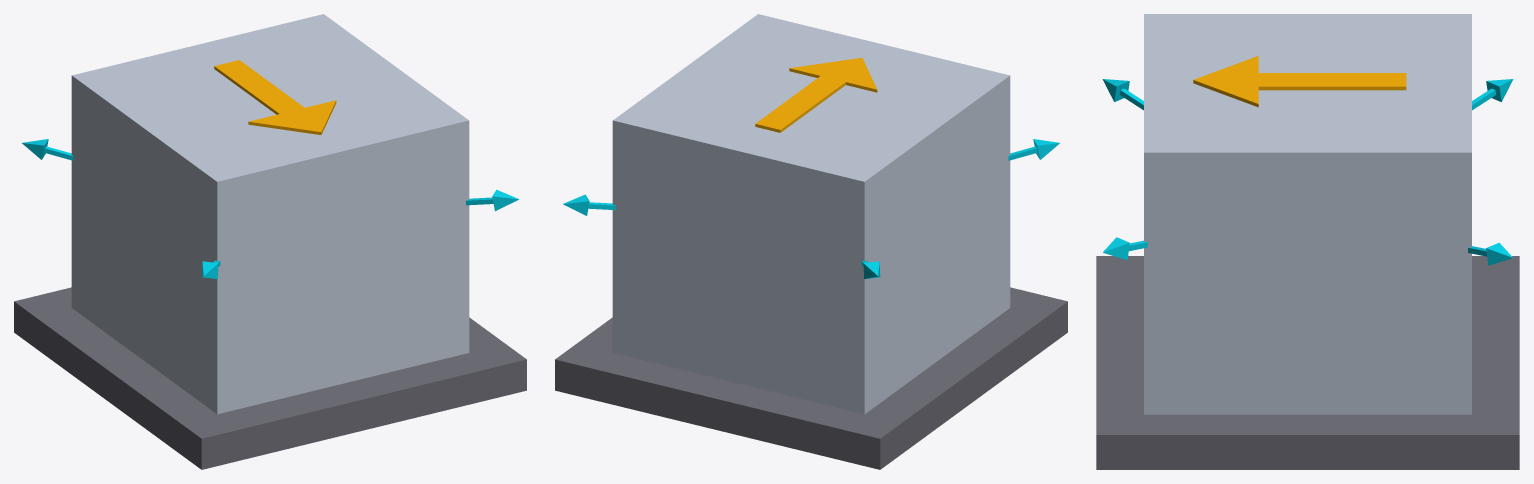
3 renders of one model, left to right at view 1: azimuth 30°, elevation 25°; view 2: azimuth 150°, elevation 25°; view 3: azimuth 270°, elevation 25°, orthographic. The views are drawn at different scales.
Visible parts, largest first — view 1: frame, bumpers, front, camera back-right; view 2: frame, bumpers, front, camera front-right; view 3: frame, bumpers, front, camera front-right, camera back-right, camera back-left, camera front-left.
Part boxes in pixels (x1=…): frame: x1=71, y1=14, x2=469, y2=414; bumpers: x1=14, y1=287, x2=526, y2=469; front: x1=214, y1=60, x2=336, y2=134; camera back-right: x1=22, y1=139, x2=73, y2=160; frame: x1=612, y1=14, x2=1010, y2=414; bumpers: x1=555, y1=287, x2=1067, y2=469; front: x1=755, y1=57, x2=877, y2=132; camera front-right: x1=1008, y1=139, x2=1059, y2=160; frame: x1=1144, y1=14, x2=1471, y2=414; bumpers: x1=1096, y1=256, x2=1519, y2=469; front: x1=1193, y1=56, x2=1406, y2=107; camera front-right: x1=1102, y1=79, x2=1143, y2=110; camera back-right: x1=1472, y1=79, x2=1513, y2=110; camera back-left: x1=1468, y1=242, x2=1512, y2=265; camera front-left: x1=1103, y1=237, x2=1147, y2=260.
Size of the model in its own units: 0.9017 by 0.7065 by 0.9017.
